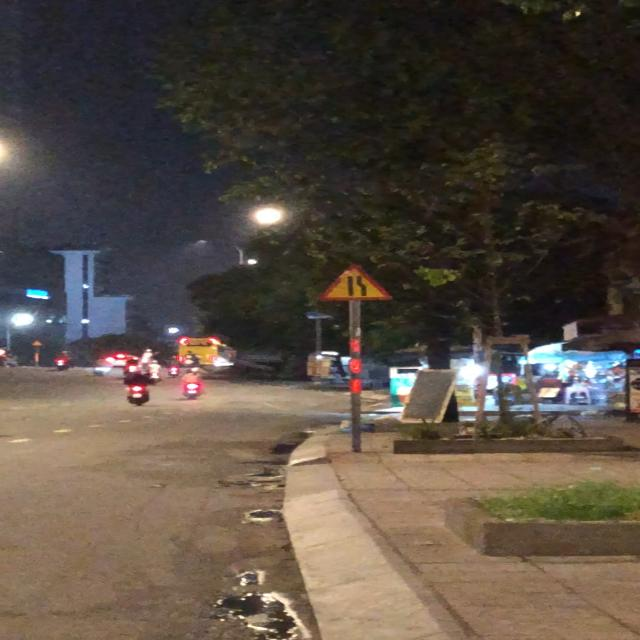Bien bao duong bi thu hep: (312, 259, 406, 305)
